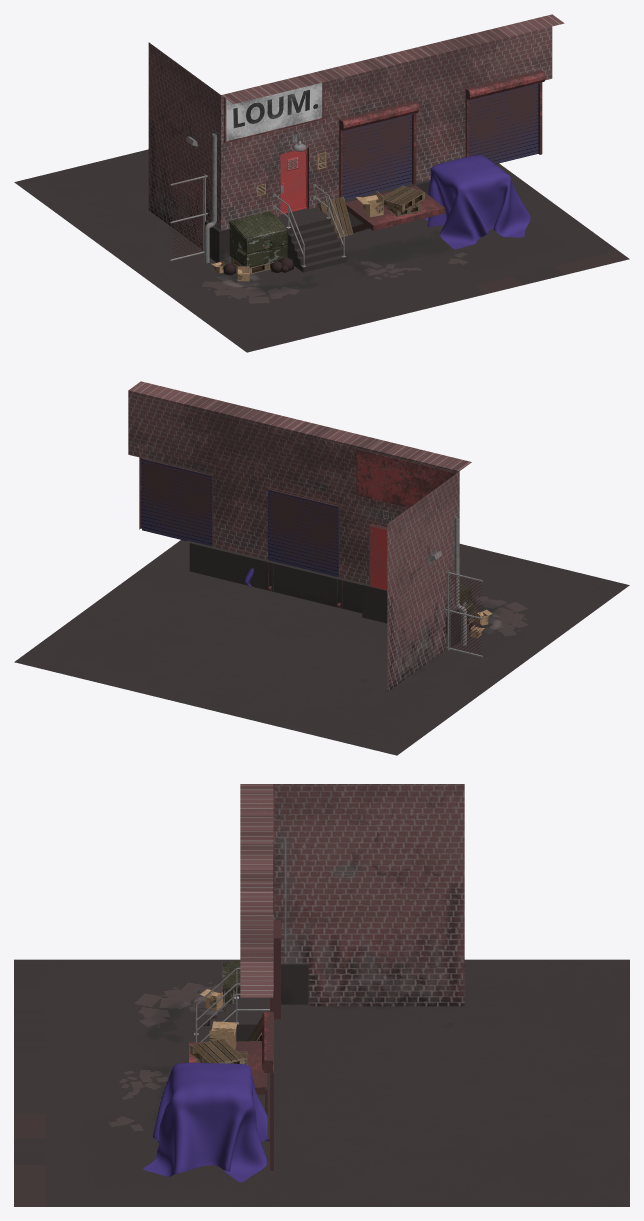
The model's file is red_door_warehouse.glb.
3 renders of one model, top to bottom at view 1: azimuth 30°, elevation 25°; view 2: azimuth 150°, elevation 25°; view 3: azimuth 270°, elevation 25°, orthographic. The views are drawn at different scales.
Parts seen in each view (by area): view 1: Plane.005, Plane.002, Cube.013, Plane.015, Plane.012, Plane.003, Cube, Cube.017, Plane, Plane.010, Plane.008, Plane.004 (+5 smaller); view 2: Plane.005, Plane.002, Plane.004, Plane.012, Plane.015, Plane.003, Plane.008, Plane, Cube, Plane.006, Plane.007; view 3: Plane.005, Plane.002, Cube.013, Plane.004, Cube, Plane.012, Cube.021, Plane.010, Cube.001.
Boxes of the visible parts, box(x1,y1,x2,y2) form: Plane.005: box(14, 149, 629, 352); Plane.002: box(148, 14, 564, 250); Cube.013: box(424, 155, 530, 249); Plane.015: box(339, 101, 419, 199); Plane.012: box(465, 70, 545, 164); Plane.003: box(224, 82, 323, 143); Cube: box(277, 207, 346, 272); Cube.017: box(229, 221, 288, 267); Plane: box(280, 148, 307, 214); Plane.010: box(345, 185, 445, 230); Plane.008: box(171, 178, 203, 258); Plane.004: box(205, 179, 430, 262); Plane.005: box(14, 540, 629, 755); Plane.002: box(128, 381, 471, 691); Plane.004: box(185, 540, 461, 647); Plane.012: box(139, 446, 215, 546); Plane.015: box(266, 477, 340, 577); Plane.003: box(356, 449, 455, 507); Plane.008: box(449, 574, 481, 655); Plane: box(370, 526, 387, 590); Cube: box(362, 583, 387, 623); Plane.006: box(454, 516, 466, 645); Plane.007: box(445, 570, 482, 657); Plane.005: box(14, 959, 629, 1206); Plane.002: box(240, 784, 464, 1019); Cube.013: box(143, 1062, 269, 1182); Plane.004: box(267, 963, 310, 1138); Cube: box(193, 996, 278, 1042); Plane.012: box(262, 1012, 273, 1170); Cube.021: box(190, 1038, 244, 1064); Plane.010: box(189, 1041, 267, 1094); Cube.001: box(195, 967, 269, 1042).
Bounding box in the file's own units: 13.7 × 5.62 × 13.69.
5 materials, 4 textured.
